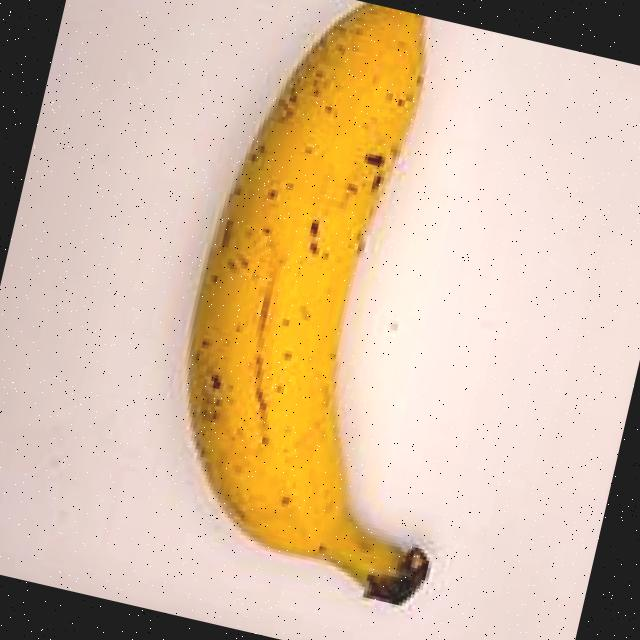Overripe: (101, 0, 580, 640)
